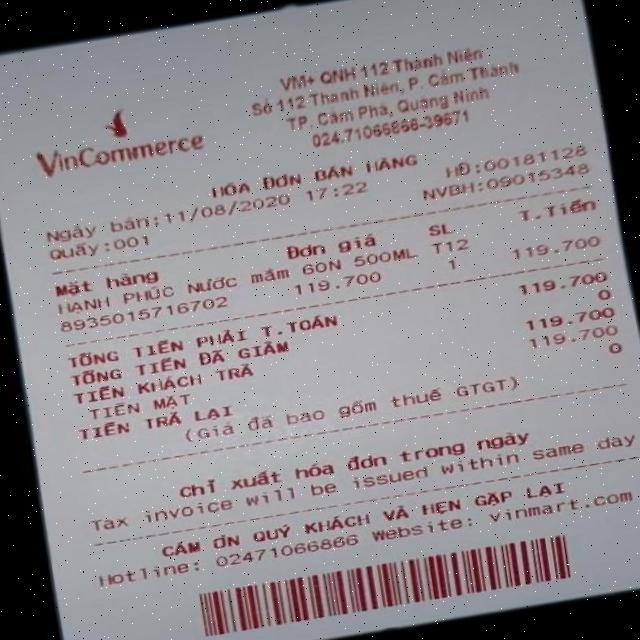Date: (158, 188, 298, 229)
Store_Name: (5, 86, 221, 184)
amount_number: (514, 264, 611, 300)
label_total: (63, 308, 343, 373)
